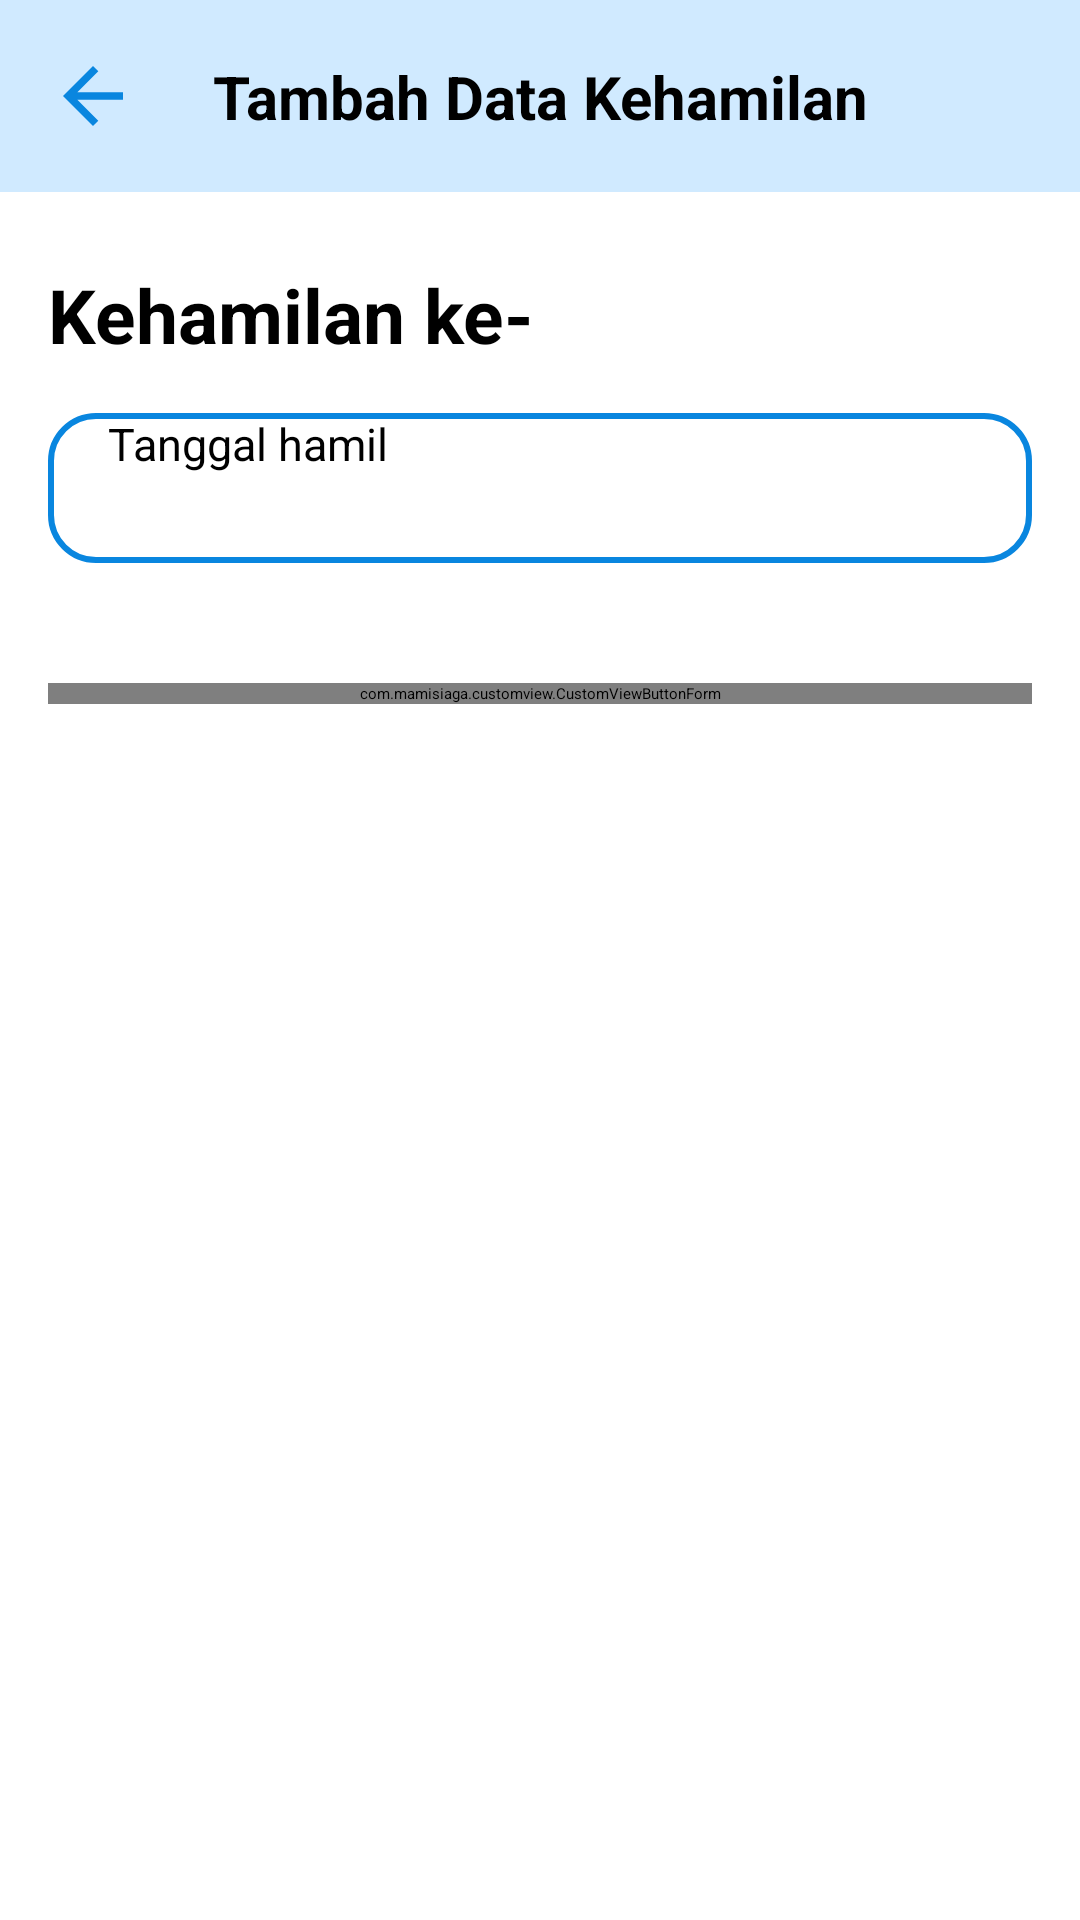

Named icons in this screenshot (1080w x 1920h) and their bounding boxes, (x1, y1, x2, y2):
arrow back: (63, 66, 123, 126)
